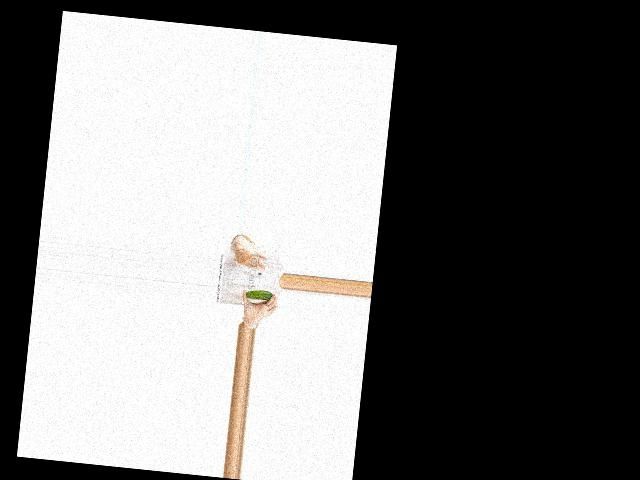cucumber: (244, 289, 272, 301)
